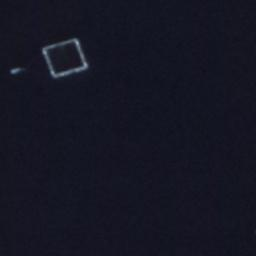square_solid: (39, 35, 93, 80)
